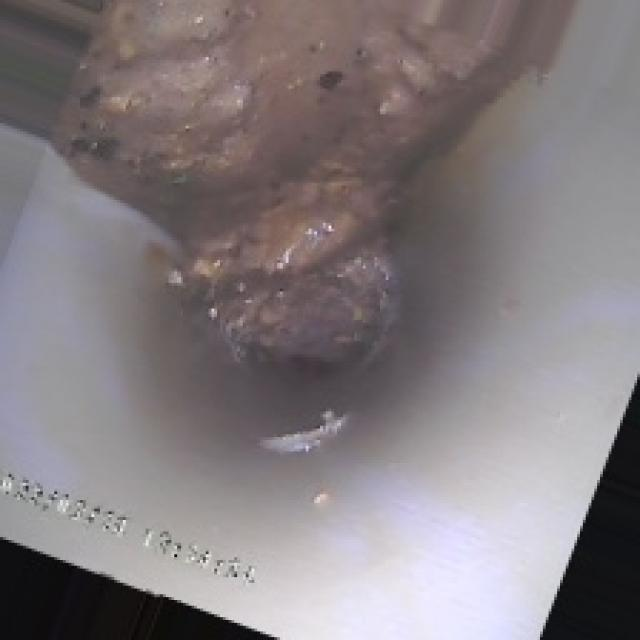sluge accumulation: (60, 12, 531, 354)
